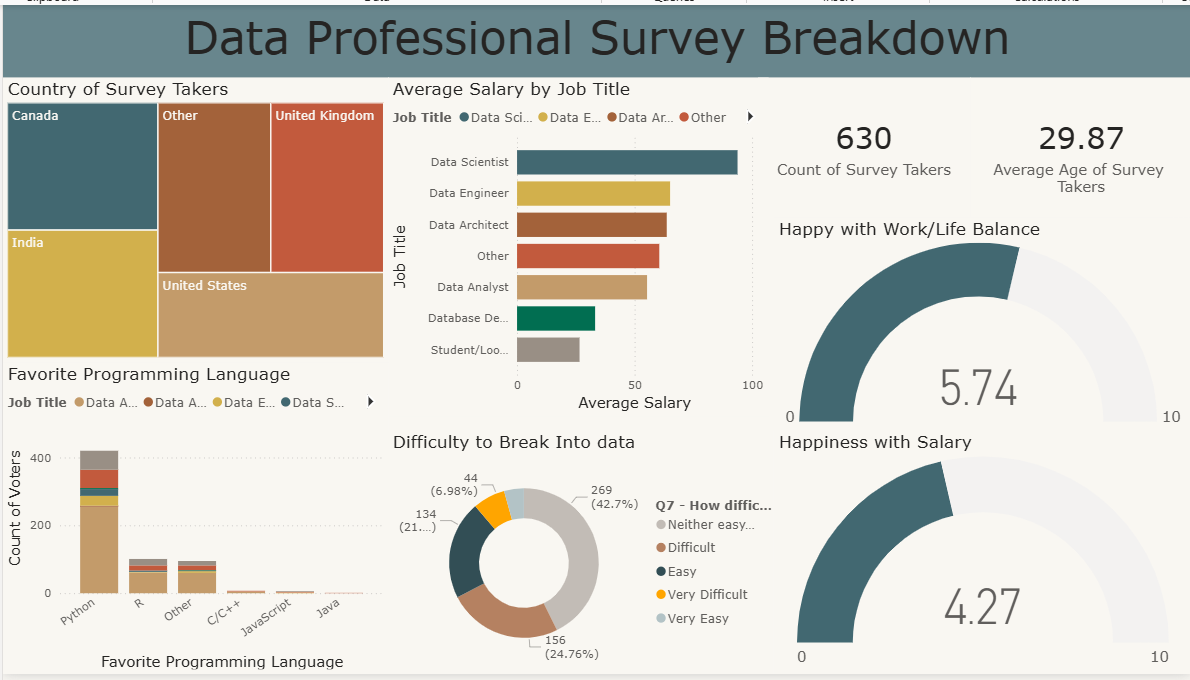

The page's visual inventory and layout, read from the dashboard file:
{"tool":"powerbi","page":{"name":"Page 1","canvas":[1280,720],"ordinal":0},"visuals":[{"type":"textbox","box":[0,0,1280.3,78.1],"z":0},{"type":"card","fields":{"Values":["CountNonNull(Data Professional Survey.Unique ID)"]},"box":[813,78.1,228.6,150.5],"z":1000},{"type":"card","fields":{"Values":["Avg(Data Professional Survey.Q10 - Current Age)"]},"box":[1041.6,78.1,238.7,150.5],"z":2000},{"type":"barChart","title":"Average Salary by Job Title","fields":{"Category":["Data Professional Survey.Q1 - Which Title Best Fits your Current Role?.1"],"Y":["Avg(Data Professional Survey.Average Salary)"],"Series":["Data Professional Survey.Q1 - Which Title Best Fits your Current Role?.1"]},"box":[415.2,78.1,409.4,364.6],"z":3000},{"type":"columnChart","title":"Favorite Programming Language","fields":{"Category":["Data Professional Survey.Q5 - Favorite Programming Language.1"],"Y":["CountNonNull(Data Professional Survey.Unique ID)"],"Series":["Data Professional Survey.Q1 - Which Title Best Fits your Current Role?.1"]},"box":[0,384.8,415.2,335.6],"z":4000},{"type":"treemap","title":"Country of Survey Takers","fields":{"Group":["Data Professional Survey.Q11 - Which Country do you live in?.1"],"Values":["Count(Data Professional Survey.Q11 - Which Country do you live in?.1)"]},"box":[0,78.1,415.2,306.7],"z":5000},{"type":"gauge","title":"Happy with Work/Life Balance","fields":{"Y":["Avg(Data Professional Survey.Q6 - How Happy are you in your Current Position with the following? (Work/Life Balance))"],"MinValue":["Min(Data Professional Survey.Q6 - How Happy are you in your Current Position with the following? (Work/Life Balance))1"],"MaxValue":["Max(Data Professional Survey.Q6 - How Happy are you in your Current Position with the following? (Work/Life Balance))"]},"box":[830.4,228.6,449.9,230],"z":6000},{"type":"gauge","title":"Happiness with Salary","fields":{"Y":["Avg(Data Professional Survey.Q6 - How Happy are you in your Current Position with the following? (Salary))"],"MaxValue":["Max(Data Professional Survey.Q6 - How Happy are you in your Current Position with the following? (Salary))"],"MinValue":["Min(Data Professional Survey.Q6 - How Happy are you in your Current Position with the following? (Salary))"]},"box":[830.4,458.6,449.9,261.8],"z":7000},{"type":"donutChart","title":"Difficulty to Break Into data","fields":{"Category":["Data Professional Survey.Q7 - How difficult was it for you to break into Data?"],"Y":["CountNonNull(Data Professional Survey.Average Salary)"]},"box":[415.2,458.6,415.2,261.8],"z":8000}]}

Visuals, with their boxes in screenshot pixels (x1, y1, x2, y2), scaled from the page's 1280x720 canvas onto the 1190x680 screenshot:
textbox: <box>0,0,1189,74</box>
card - CountNonNull(Data Professional Survey.Unique ID): <box>756,74,968,216</box>
card - Avg(Data Professional Survey.Q10 - Current Age): <box>968,74,1189,216</box>
"Average Salary by Job Title" barChart: <box>386,74,767,418</box>
"Favorite Programming Language" columnChart: <box>0,363,386,679</box>
"Country of Survey Takers" treemap: <box>0,74,386,363</box>
"Happy with Work/Life Balance" gauge: <box>772,216,1189,433</box>
"Happiness with Salary" gauge: <box>772,433,1189,679</box>
"Difficulty to Break Into data" donutChart: <box>386,433,772,679</box>
